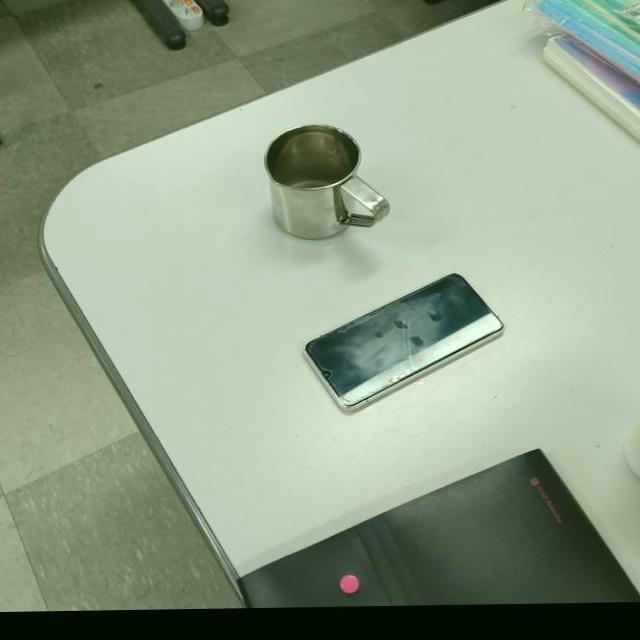cup: (265, 122, 391, 241)
phone: (302, 268, 504, 416)
